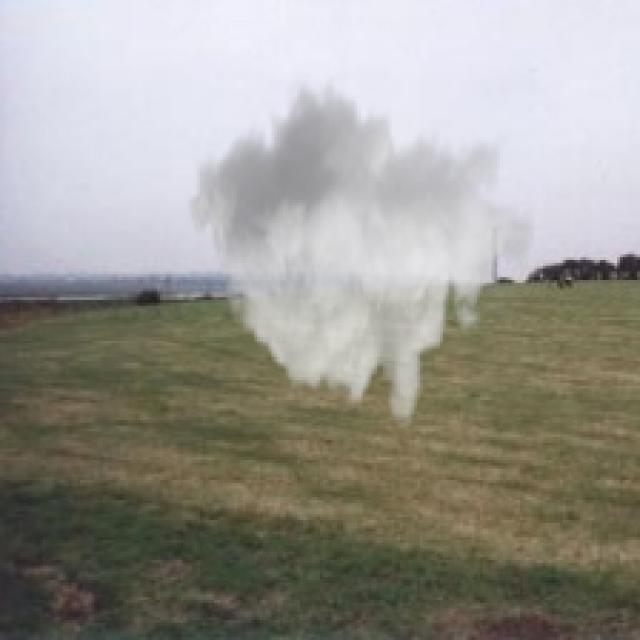smoke: (186, 74, 534, 429)
